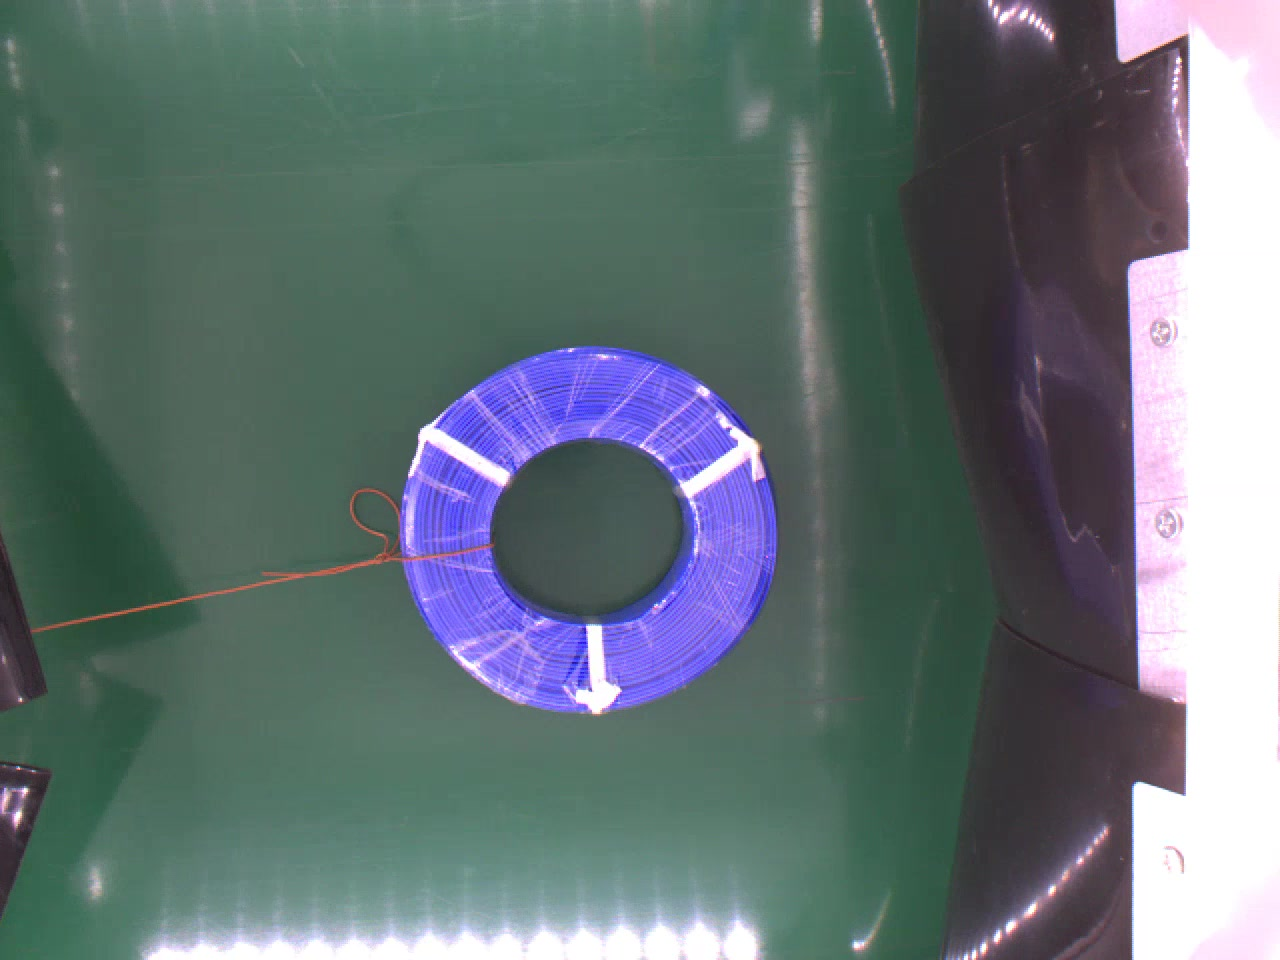blue: (396, 344, 776, 713)
